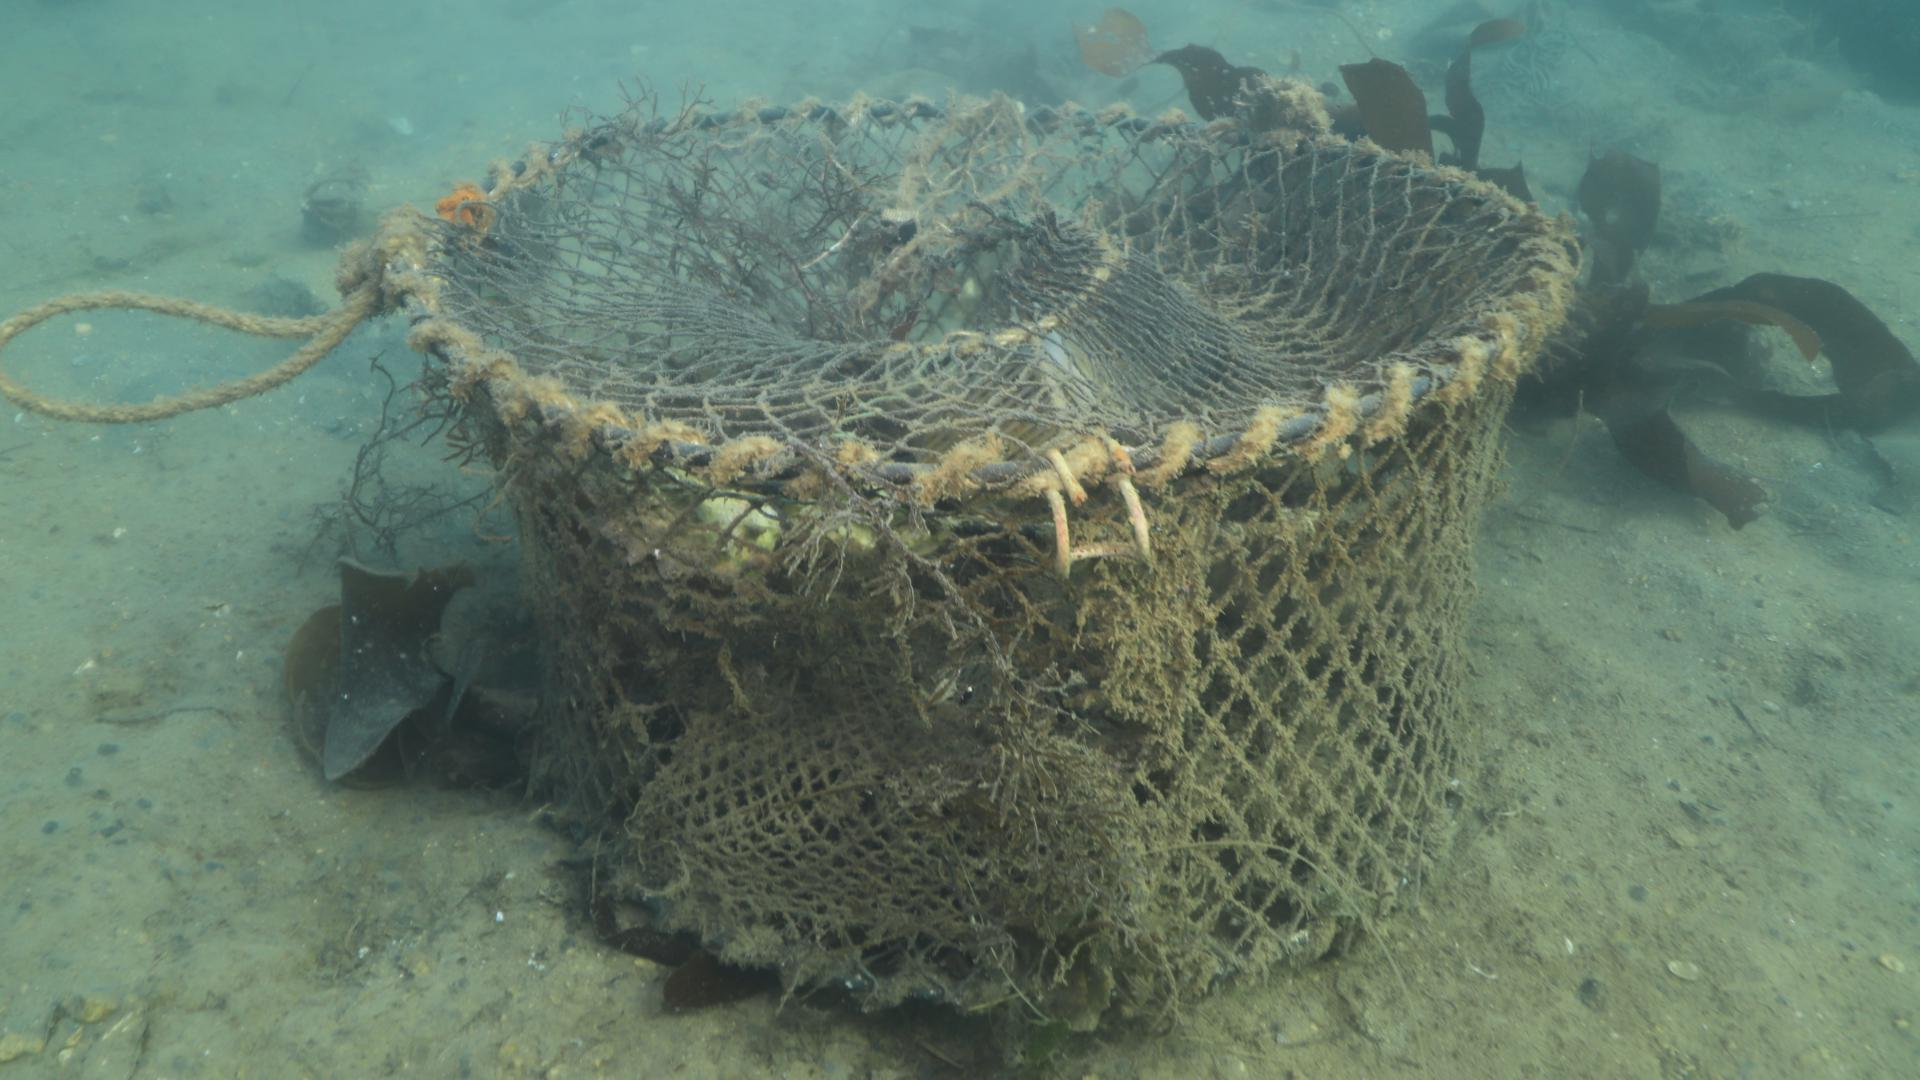circular fish trap: (371, 91, 1578, 1026)
rope: (0, 284, 375, 419)
